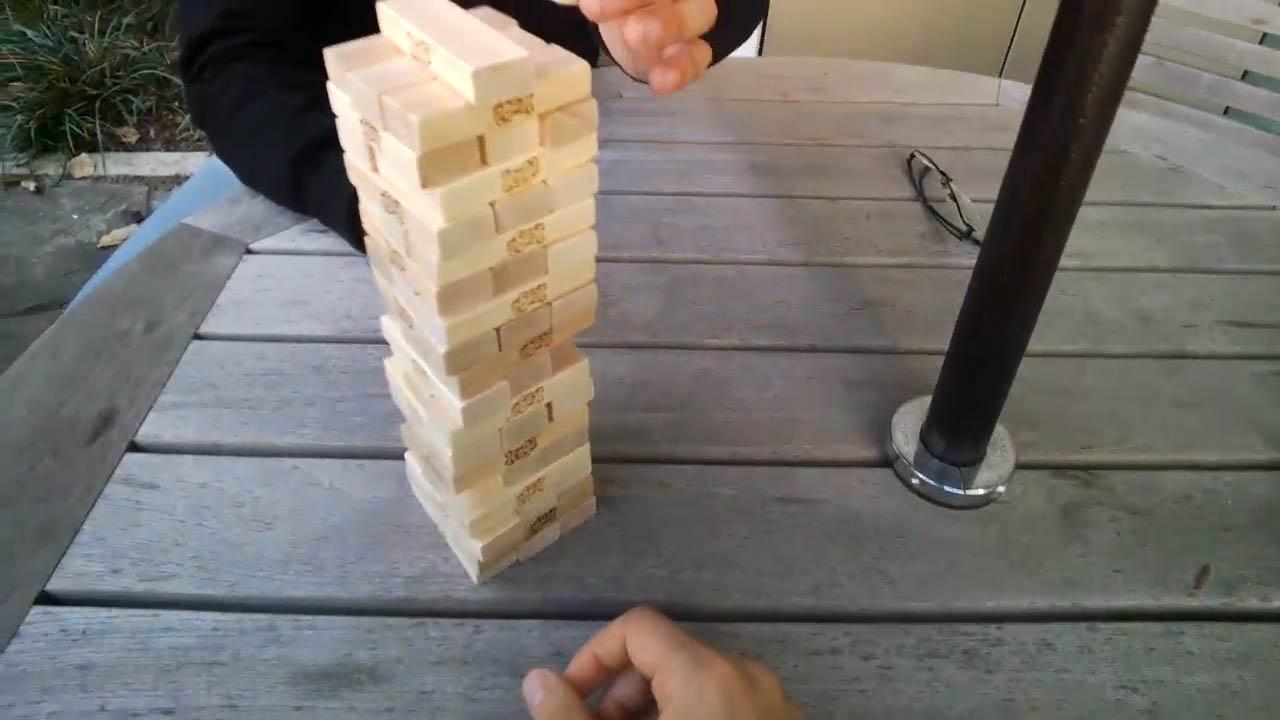hand: (515, 607, 818, 720), (557, 1, 725, 87)
